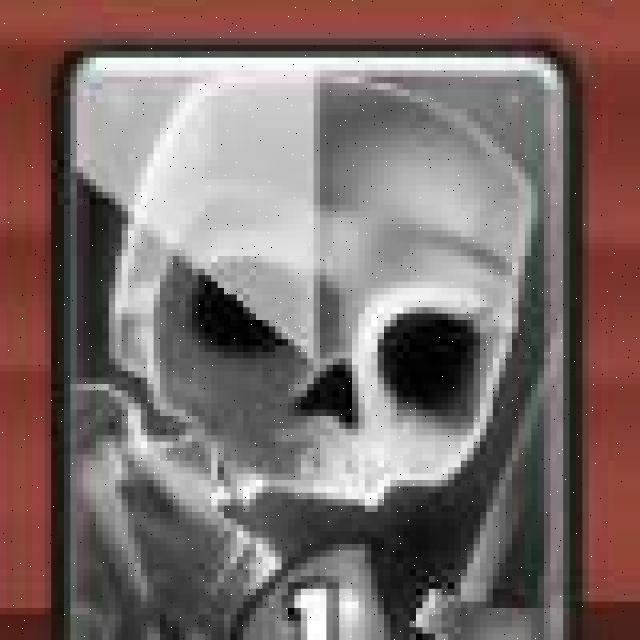Skeletons: (51, 56, 563, 640)
